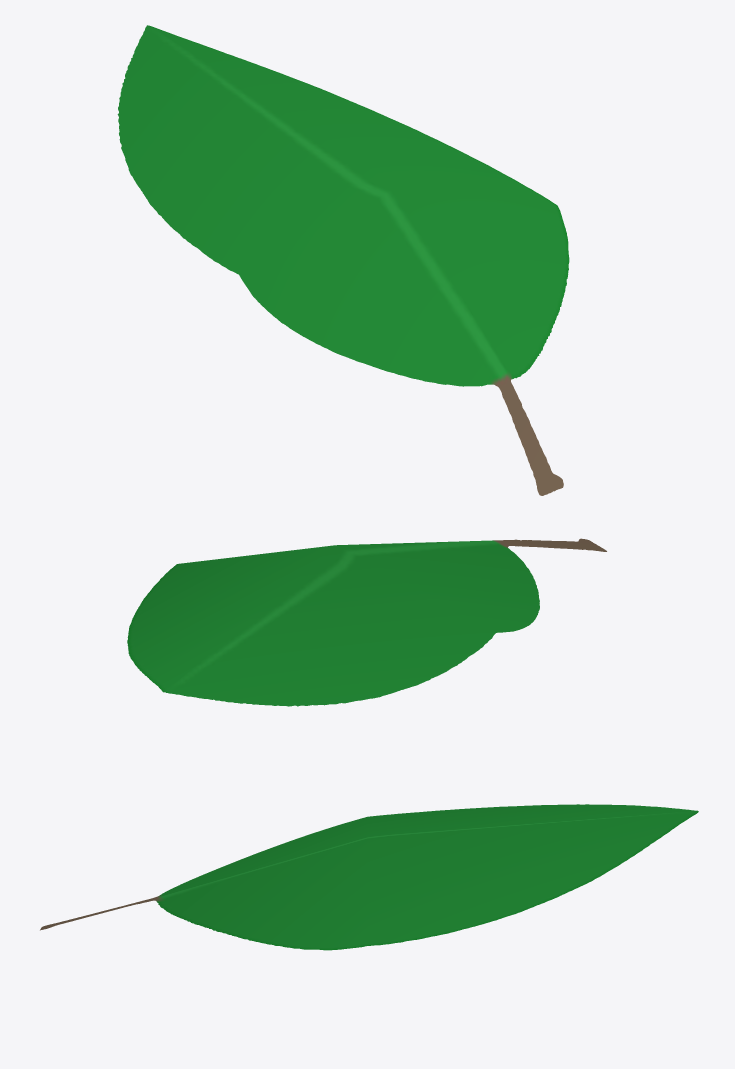
File: PT_Generic_Leaf_01.fbx
The picture shows the model from 3 angles, top to bottom: view 1: azimuth 30°, elevation 25°; view 2: azimuth 150°, elevation 25°; view 3: azimuth 270°, elevation 25°; orthographic projection. The views are drawn at different scales.
Parts seen in each view (by area): view 1: PT_Generic_Leaf_01; view 2: PT_Generic_Leaf_01; view 3: PT_Generic_Leaf_01.
Boxes of the visible parts, bbox=[...] form: PT_Generic_Leaf_01: bbox=[117, 25, 569, 495]; PT_Generic_Leaf_01: bbox=[127, 538, 606, 706]; PT_Generic_Leaf_01: bbox=[40, 804, 698, 950].
Bounding box in the file's own units: 14.31 × 3.18 × 15.79.
